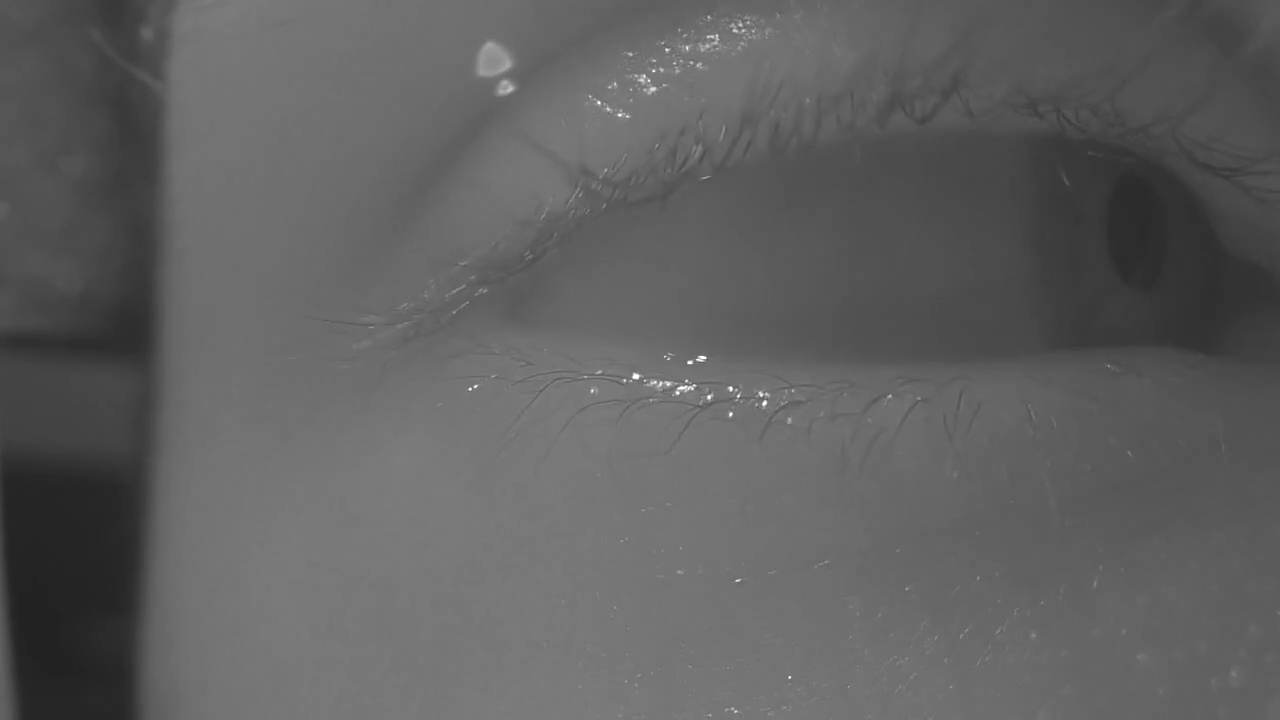pupil: (1106, 171, 1168, 291)
